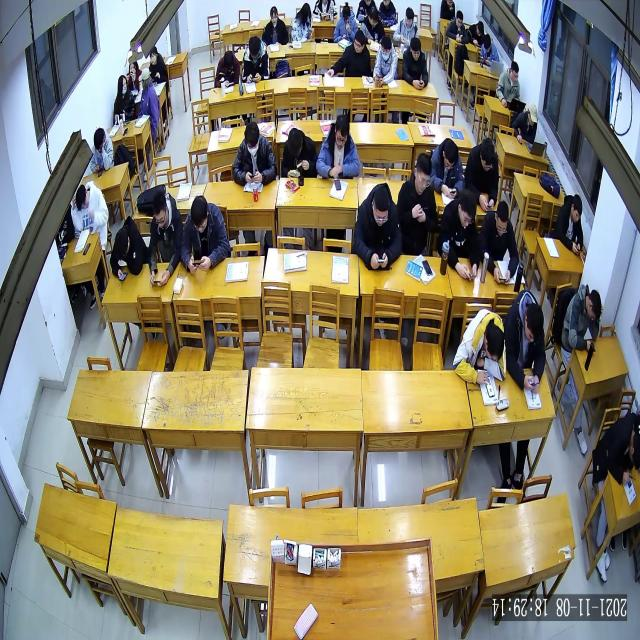bow: (454, 310, 506, 384), (110, 218, 148, 282), (468, 21, 484, 47)
down: (524, 304, 544, 343), (484, 326, 504, 360), (372, 190, 389, 226), (414, 154, 430, 192), (458, 193, 475, 228), (192, 197, 208, 233), (244, 125, 260, 156), (334, 117, 350, 148), (495, 204, 509, 236), (480, 140, 494, 171), (288, 130, 303, 158), (114, 230, 130, 256), (586, 292, 600, 321), (154, 201, 168, 229), (442, 141, 455, 170), (76, 187, 89, 210), (572, 196, 582, 223), (410, 39, 421, 61), (248, 38, 260, 58), (382, 37, 392, 60), (94, 129, 104, 151), (224, 52, 233, 71), (369, 10, 378, 28), (342, 5, 350, 22), (404, 10, 412, 27), (483, 37, 491, 52), (476, 22, 484, 36), (456, 12, 463, 27)
lookup: (527, 106, 537, 126), (511, 63, 519, 83), (270, 8, 278, 24), (150, 50, 157, 66), (129, 63, 137, 73)
sit: (504, 291, 546, 393), (354, 183, 400, 272), (397, 154, 436, 254), (182, 196, 228, 275), (438, 192, 479, 279), (480, 201, 519, 284), (148, 196, 183, 288), (593, 414, 639, 483), (562, 286, 603, 352), (233, 123, 277, 183), (317, 116, 359, 177), (466, 138, 498, 209), (432, 138, 464, 199), (72, 182, 108, 236), (329, 31, 371, 76), (282, 129, 317, 178), (557, 194, 584, 254), (402, 37, 428, 90), (373, 36, 398, 86), (242, 37, 270, 81), (138, 67, 160, 121), (90, 128, 114, 174), (114, 76, 136, 123), (497, 62, 520, 106), (263, 7, 289, 45), (333, 3, 358, 41), (514, 105, 538, 142), (361, 8, 385, 44), (215, 51, 240, 85), (292, 3, 314, 41), (394, 10, 418, 44), (446, 11, 468, 43), (149, 49, 168, 83), (480, 36, 500, 66), (127, 62, 140, 90)
